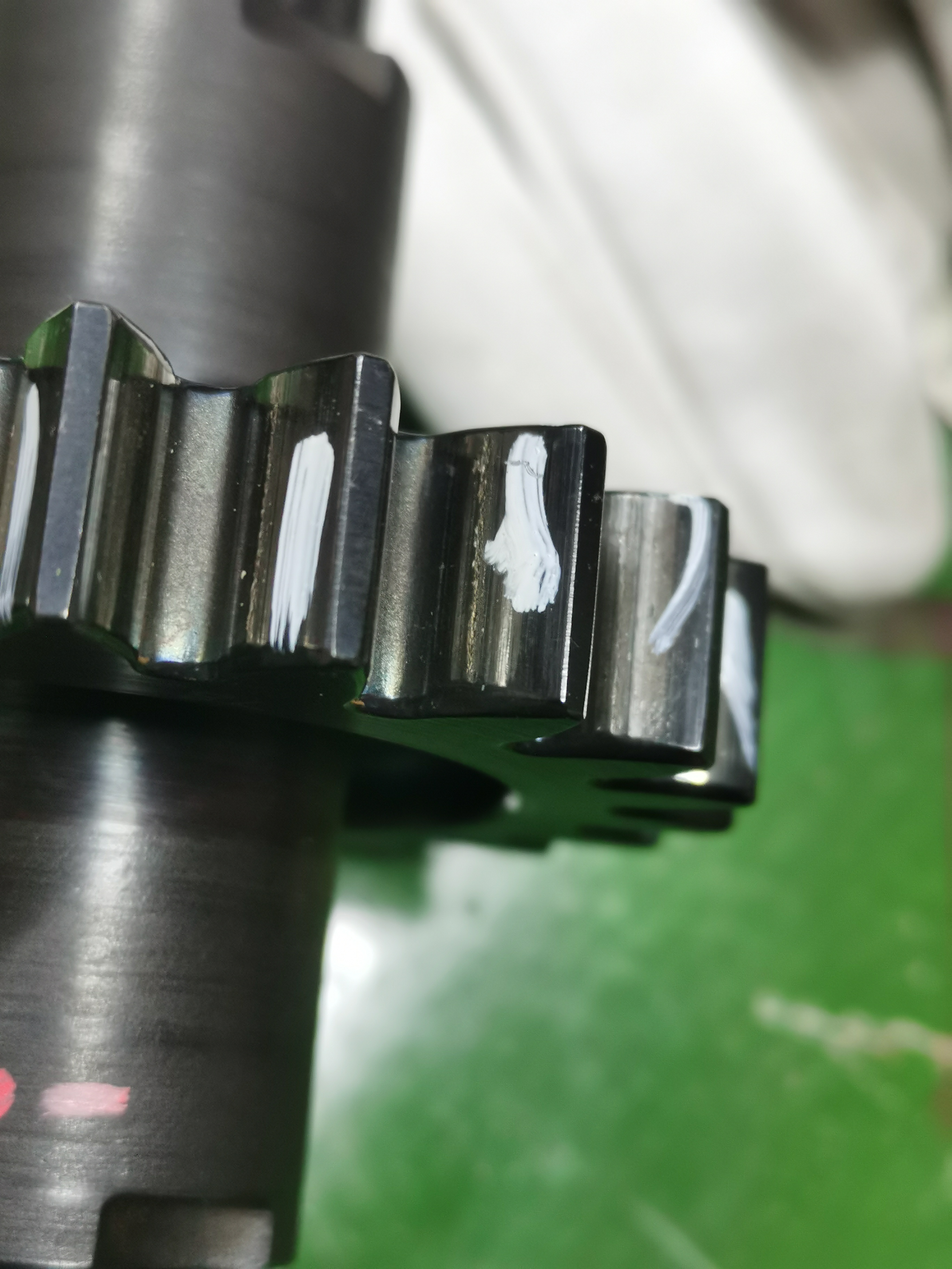Abrasion: (246, 356, 359, 655), (79, 322, 174, 642), (450, 435, 565, 696), (591, 495, 708, 748), (13, 307, 70, 614)
